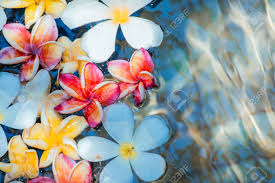frangipani: (81, 105, 168, 183)
